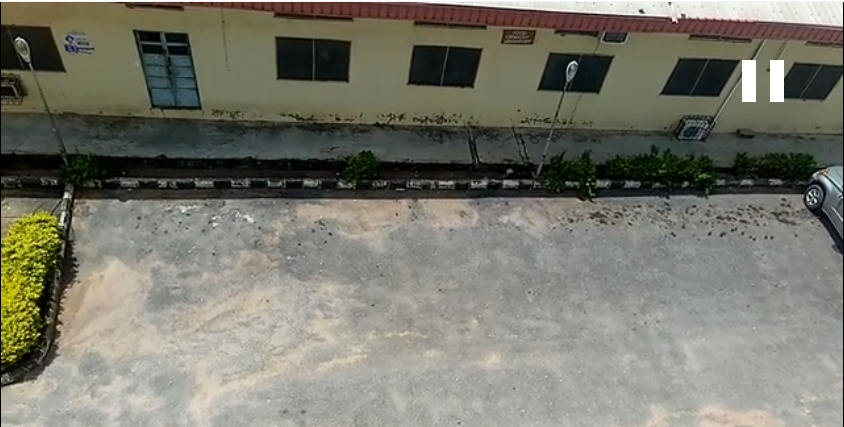four: (609, 155, 737, 373)
one: (43, 161, 189, 380)
three: (433, 158, 549, 374)
two: (248, 153, 386, 374)
